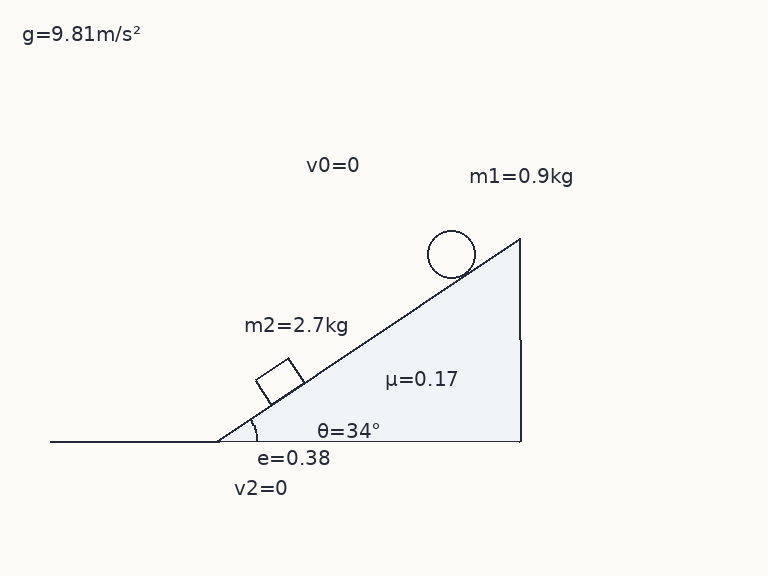ball: (425, 228, 477, 280)
block: (253, 356, 306, 406)
ramp: (215, 235, 522, 443)
